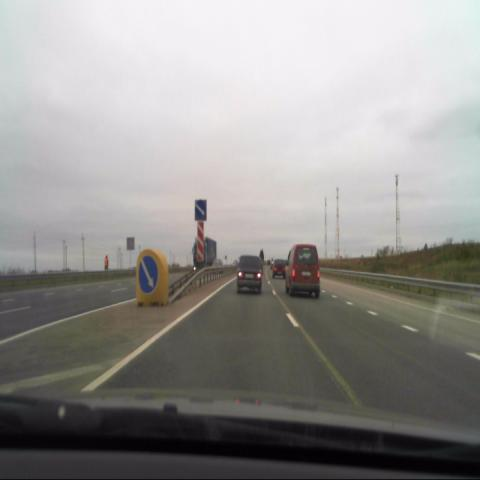4_2_1: (195, 198, 207, 222)
